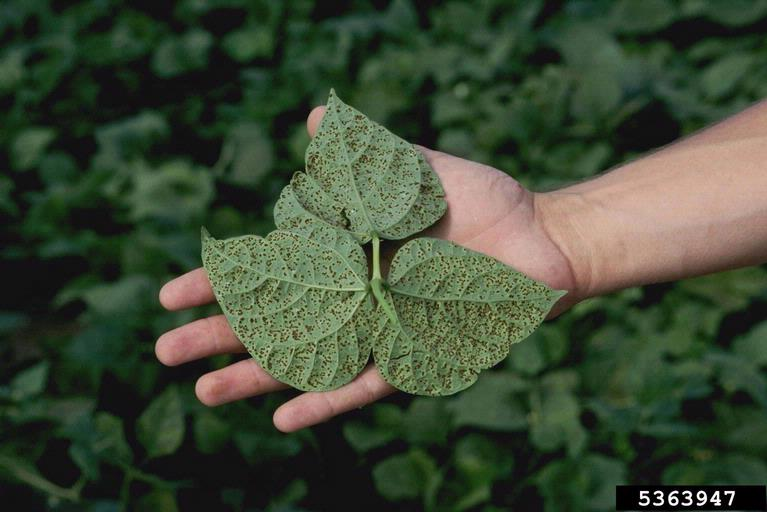StringBeans_BacterialBlight: (195, 232, 382, 385), (268, 89, 443, 240), (387, 247, 548, 380)
